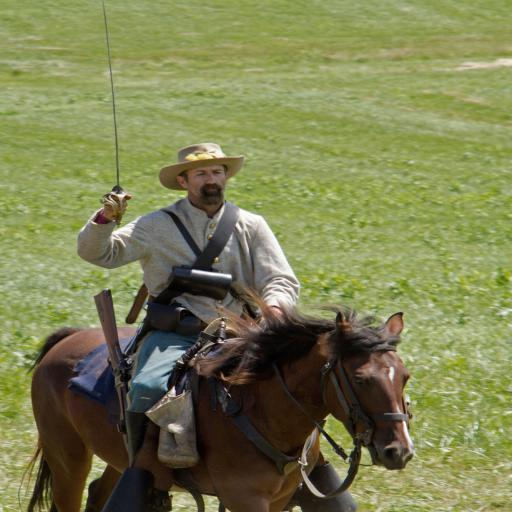Horse: (16, 284, 413, 512)
